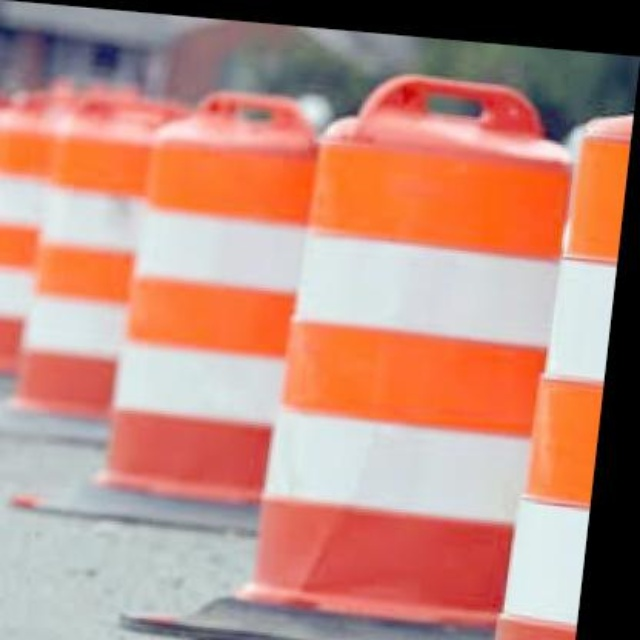obstacle: (238, 75, 579, 636)
